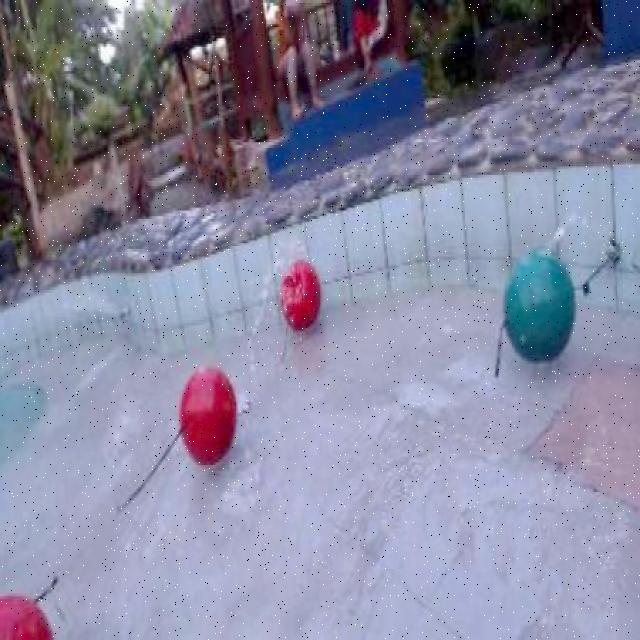buoy: (503, 245, 575, 362), (176, 366, 236, 466), (279, 258, 321, 328)
